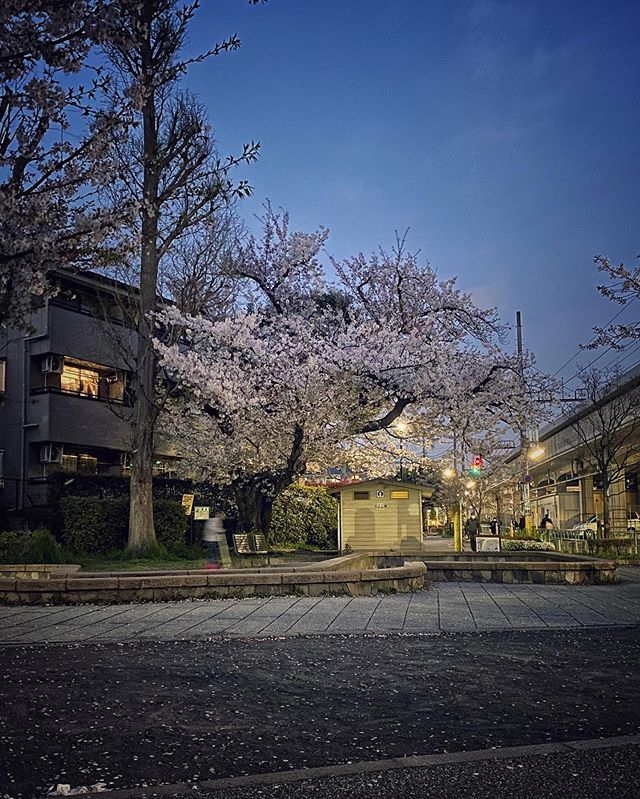building: (1, 259, 226, 563), (461, 375, 640, 557), (326, 476, 431, 552)
sky: (285, 1, 640, 316)
tree: (36, 2, 258, 565), (194, 264, 498, 563)
